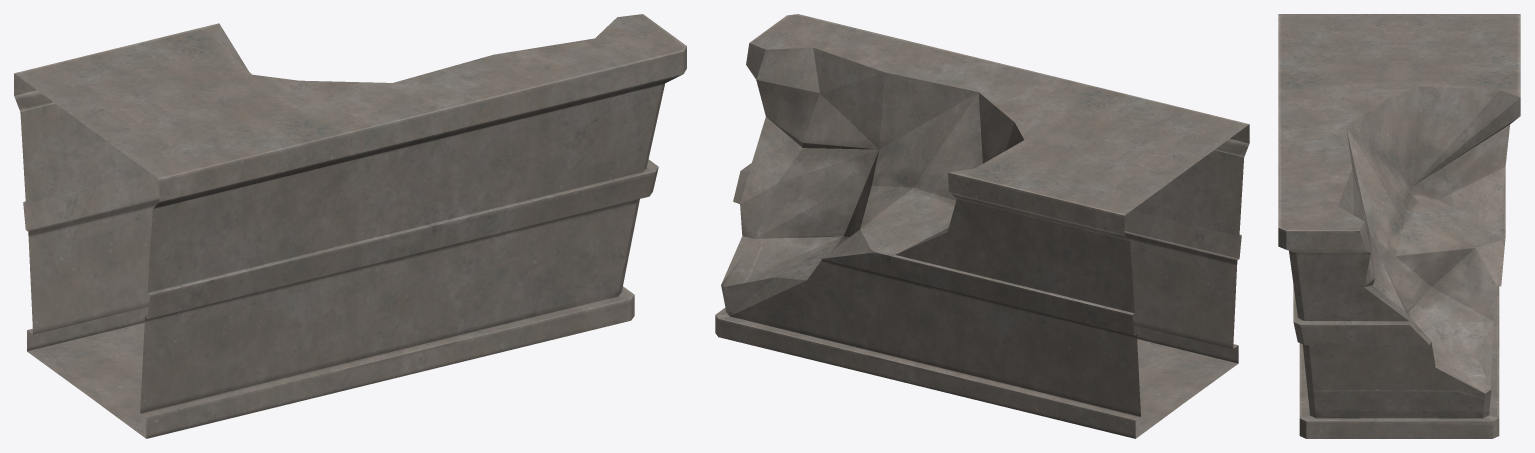
The model's file is sb_obj_outdoor009_AncientTemple_WallTopParts01E.fbx.
3 views of the same model, side by side, from view 1: azimuth 30°, elevation 25°; view 2: azimuth 150°, elevation 25°; view 3: azimuth 270°, elevation 25° (orthographic). The views are drawn at different scales.
Visible parts, largest first — view 1: sb_obj_outdoor009_AncientTemple_WallTopParts01E; view 2: sb_obj_outdoor009_AncientTemple_WallTopParts01E; view 3: sb_obj_outdoor009_AncientTemple_WallTopParts01E.
Boxes of the visible parts, left/top/right/bottom form: sb_obj_outdoor009_AncientTemple_WallTopParts01E: left=14, top=14, right=686, bottom=438; sb_obj_outdoor009_AncientTemple_WallTopParts01E: left=715, top=14, right=1249, bottom=438; sb_obj_outdoor009_AncientTemple_WallTopParts01E: left=1278, top=14, right=1520, bottom=438.
Bounding box in the file's own units: 4.11 × 1.98 × 1.94.
